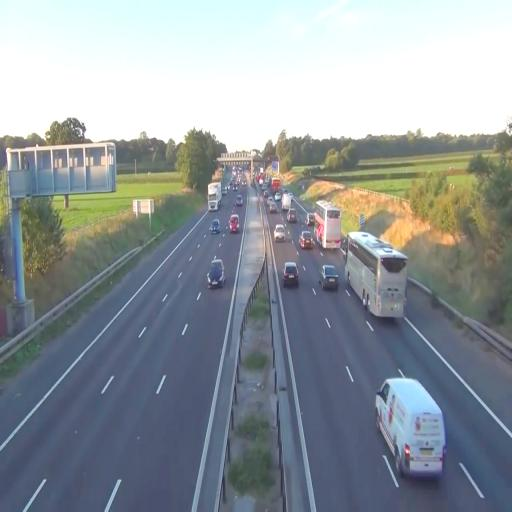vehicle: (374, 374, 446, 482), (344, 230, 409, 320), (313, 202, 343, 264), (320, 263, 339, 292), (208, 258, 224, 288), (282, 261, 299, 288), (208, 183, 222, 210), (299, 230, 315, 250), (273, 223, 288, 243), (229, 214, 240, 234), (211, 218, 220, 234)
